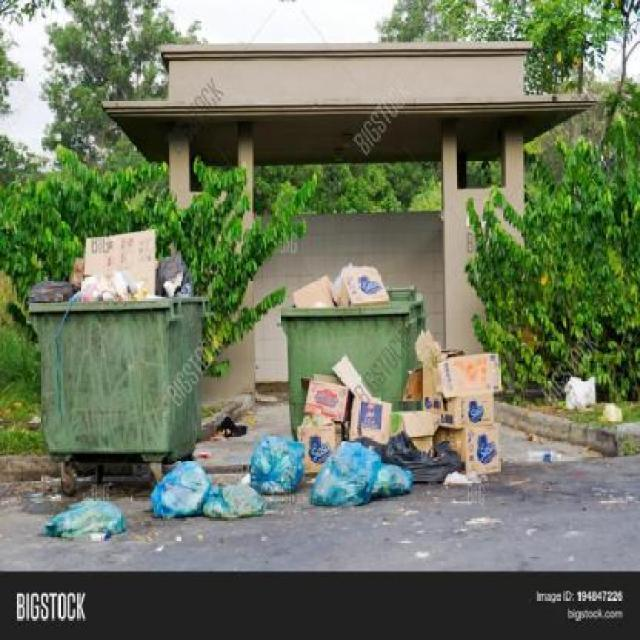garbage: (308, 354, 502, 486), (11, 223, 194, 303), (243, 431, 417, 512), (148, 457, 268, 526), (43, 485, 129, 560), (283, 259, 402, 305)
